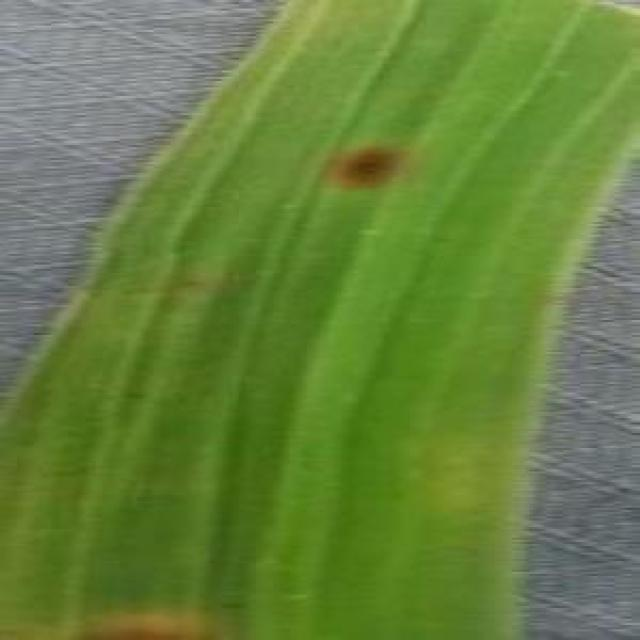Brown_Spot: (0, 608, 241, 640), (322, 142, 413, 196)
